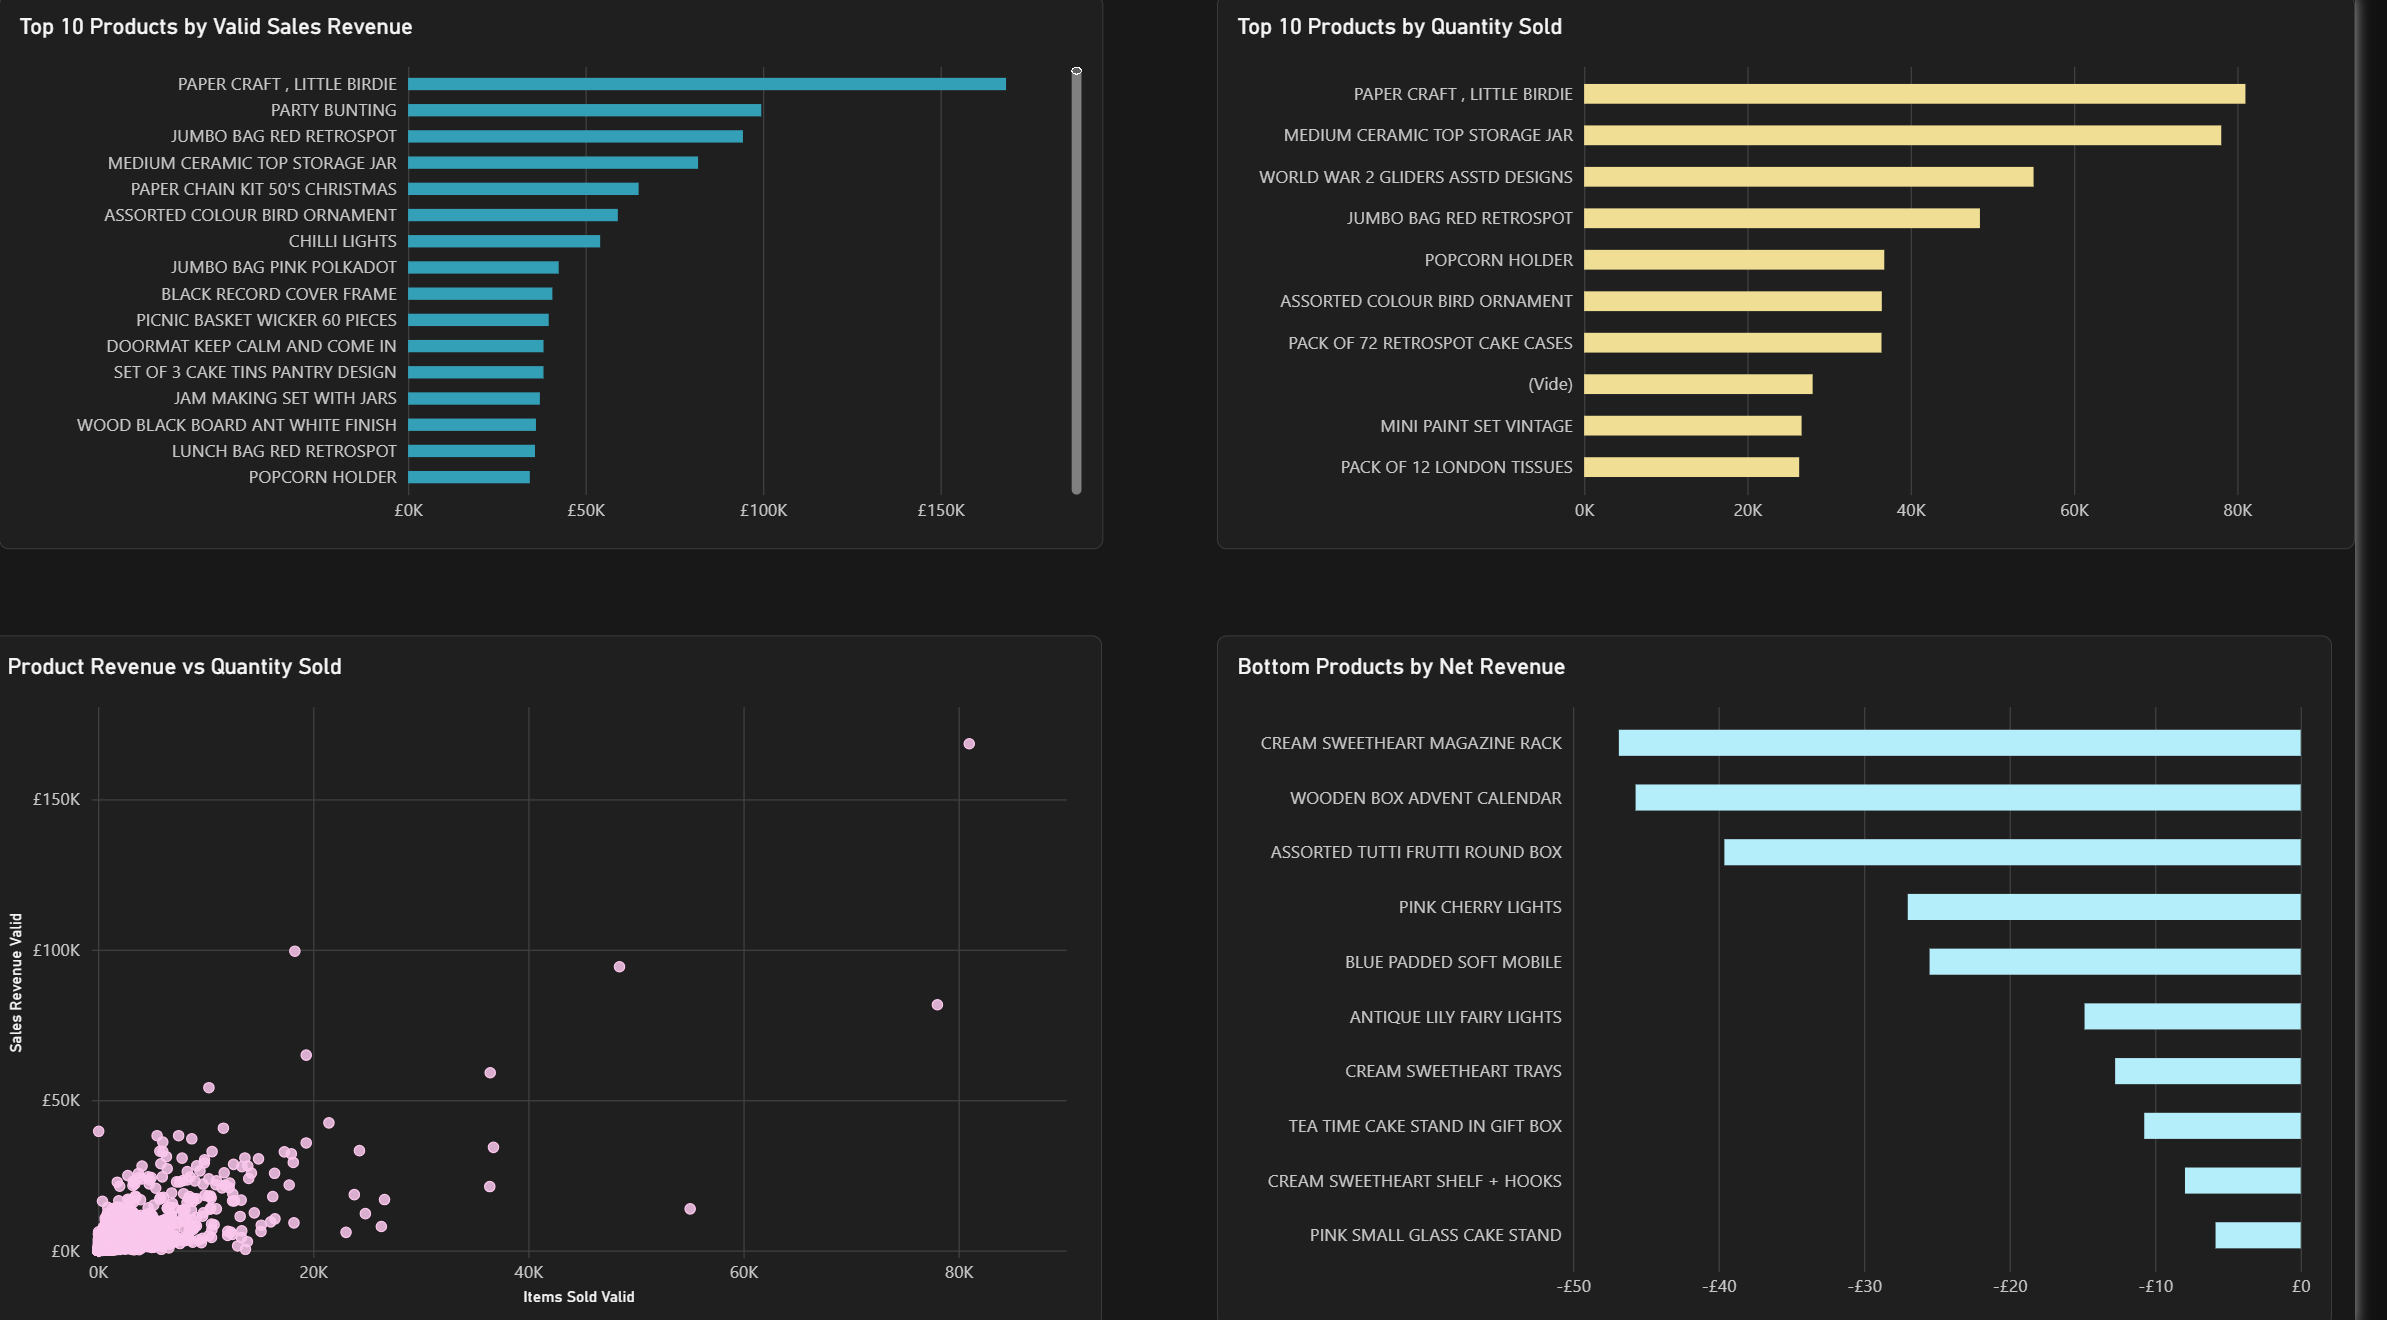

The page's visual inventory and layout, read from the dashboard file:
{"tool":"powerbi","page":{"name":"Product Performance","canvas":[1920,1080],"ordinal":1},"visuals":[{"type":"barChart","title":"Top 10 Products by Valid Sales Revenue","fields":{"Category":["DimProduct.Description"],"Y":["Sales.Sales Revenue Valid"]},"box":[9.2,0,895.1,449.4],"z":0},{"type":"barChart","title":"Top 10 Products by Quantity Sold","fields":{"Category":["DimProduct.Description"],"Y":["Sales.Items Sold Valid"]},"box":[996.8,0,922.8,449.4],"z":1000},{"type":"scatterChart","title":" Product Revenue vs Quantity Sold","fields":{"Category":["DimProduct.Description"],"X":["Sales.Items Sold Valid"],"Y":["Sales.Sales Revenue Valid"]},"box":[0,519.7,904.3,560.3],"z":2000},{"type":"barChart","title":"Bottom Products by Net Revenue","fields":{"Category":["DimProduct.Description"],"Y":["Sales.Total Revenue"]},"box":[996.8,519.7,904,560],"z":3000}]}

Visuals, with their boxes in screenshot pixels (x1, y1, x2, y2), scaled from the page's 1920x1080 canvas onto the 2387x1320 screenshot:
"Top 10 Products by Valid Sales Revenue" barChart: 11, 0, 1124, 549
"Top 10 Products by Quantity Sold" barChart: 1239, 0, 2386, 549
" Product Revenue vs Quantity Sold" scatterChart: 0, 635, 1124, 1319
"Bottom Products by Net Revenue" barChart: 1239, 635, 2363, 1319
